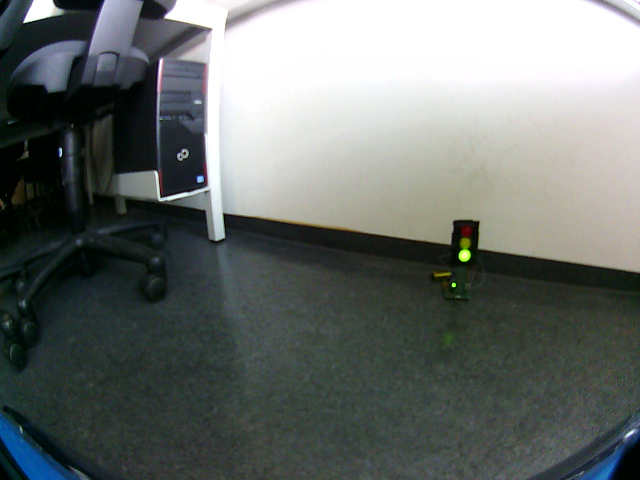green trafficlight: (455, 218, 476, 265)
